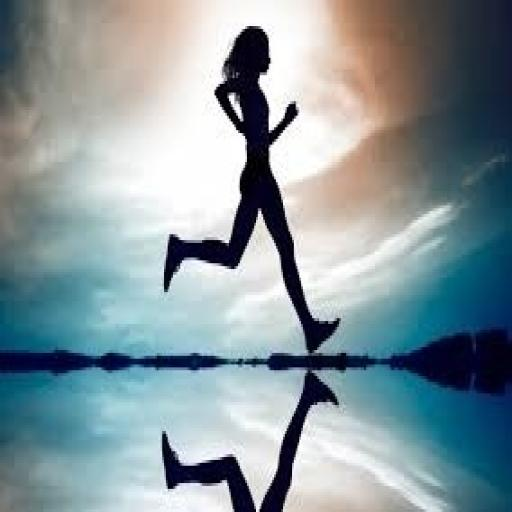running: (160, 23, 342, 356), (158, 367, 340, 509)
